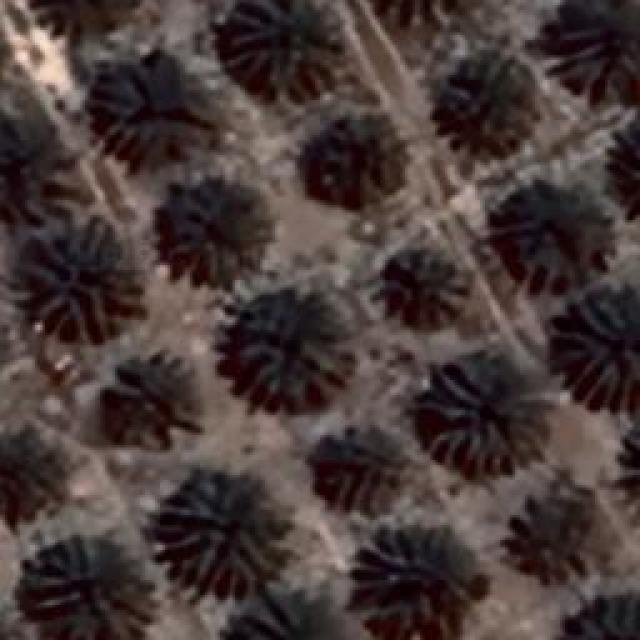PalmTree: (160, 470, 292, 590), (24, 538, 158, 638), (96, 50, 209, 165), (422, 360, 536, 470), (220, 0, 345, 95), (30, 230, 135, 342), (238, 305, 352, 405), (355, 538, 460, 632), (166, 184, 264, 284), (500, 191, 595, 289), (560, 292, 638, 410), (444, 52, 528, 152), (314, 118, 406, 205), (108, 358, 194, 446), (511, 492, 601, 576), (552, 0, 638, 80), (382, 249, 466, 329), (220, 590, 352, 640), (0, 429, 62, 532), (0, 112, 58, 222), (316, 438, 396, 512), (24, 0, 153, 44), (362, 0, 490, 36), (555, 591, 640, 640), (604, 418, 640, 526), (604, 120, 640, 228)
